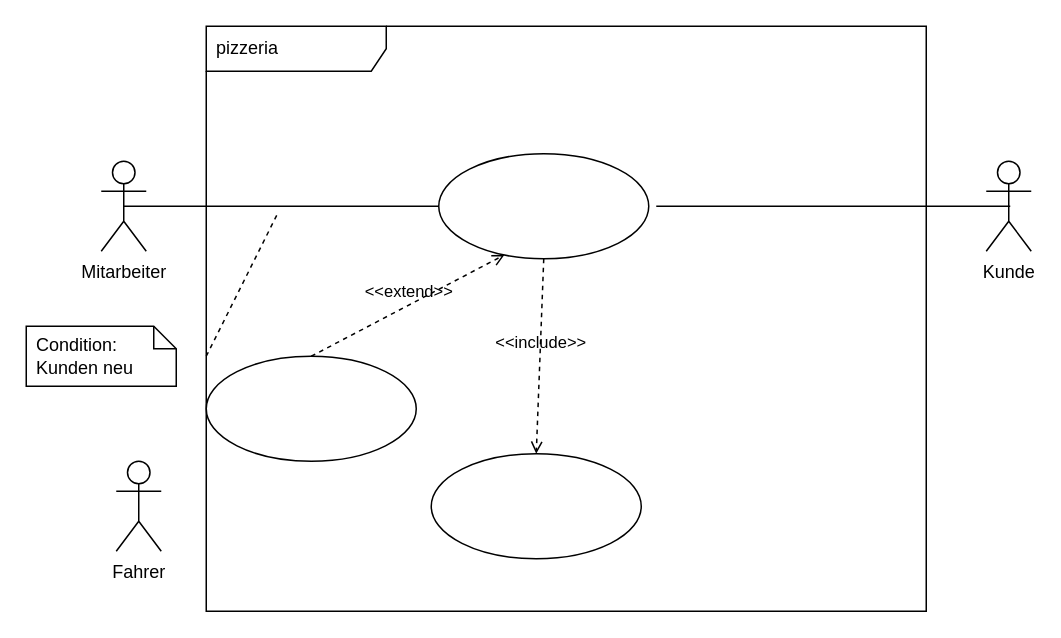
Some shapes in this 1061 by 638 pixel diagram are drawn without their labels. Each missing label, with the centre of its shape:
"Bestellanruf" goes at point 543,205.
"Bestellung aufnehmen" goes at point 535,505.
"Kundendaten erfassen" goes at point 310,408.
